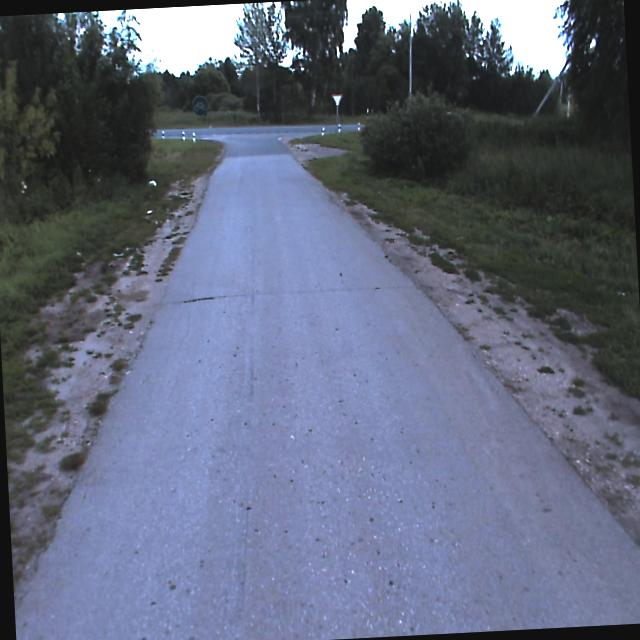road: (15, 128, 640, 640)
